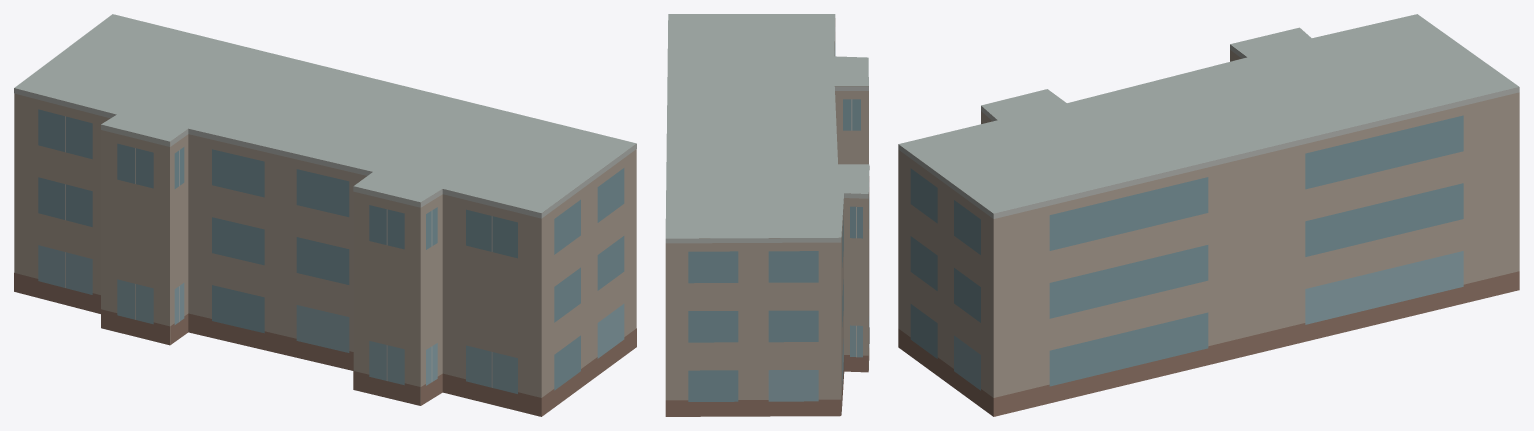
The model's file is survey-upis-32990590.glb.
3 renders of one model, left to right at view 1: azimuth 30°, elevation 25°; view 2: azimuth 150°, elevation 25°; view 3: azimuth 270°, elevation 25°, orthographic. The views are drawn at different scales.
Visible parts, largest first — view 1: survey-upis-32990590.tmp; view 2: survey-upis-32990590.tmp; view 3: survey-upis-32990590.tmp.
Part boxes in pixels (x1=…): survey-upis-32990590.tmp: x1=14, y1=14, x2=636, y2=416; survey-upis-32990590.tmp: x1=665, y1=14, x2=869, y2=416; survey-upis-32990590.tmp: x1=898, y1=14, x2=1519, y2=416.
Bounding box in the file's own units: 19.3 × 9.15 × 25.36.
